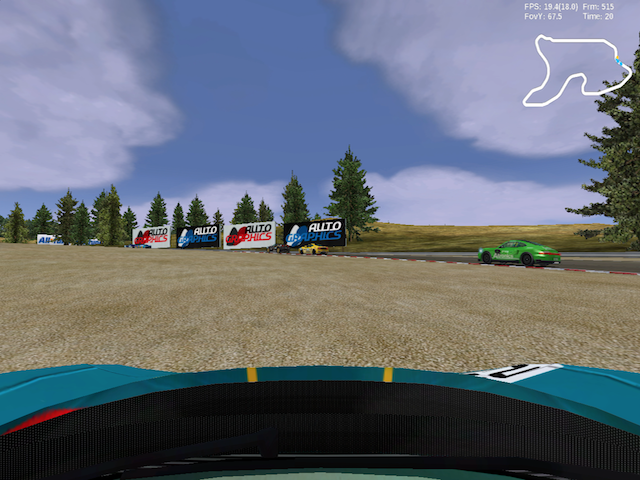Boxer96: (476, 239, 561, 266)
Cavallo360: (296, 244, 329, 255)
Spirit300: (266, 244, 291, 254)
